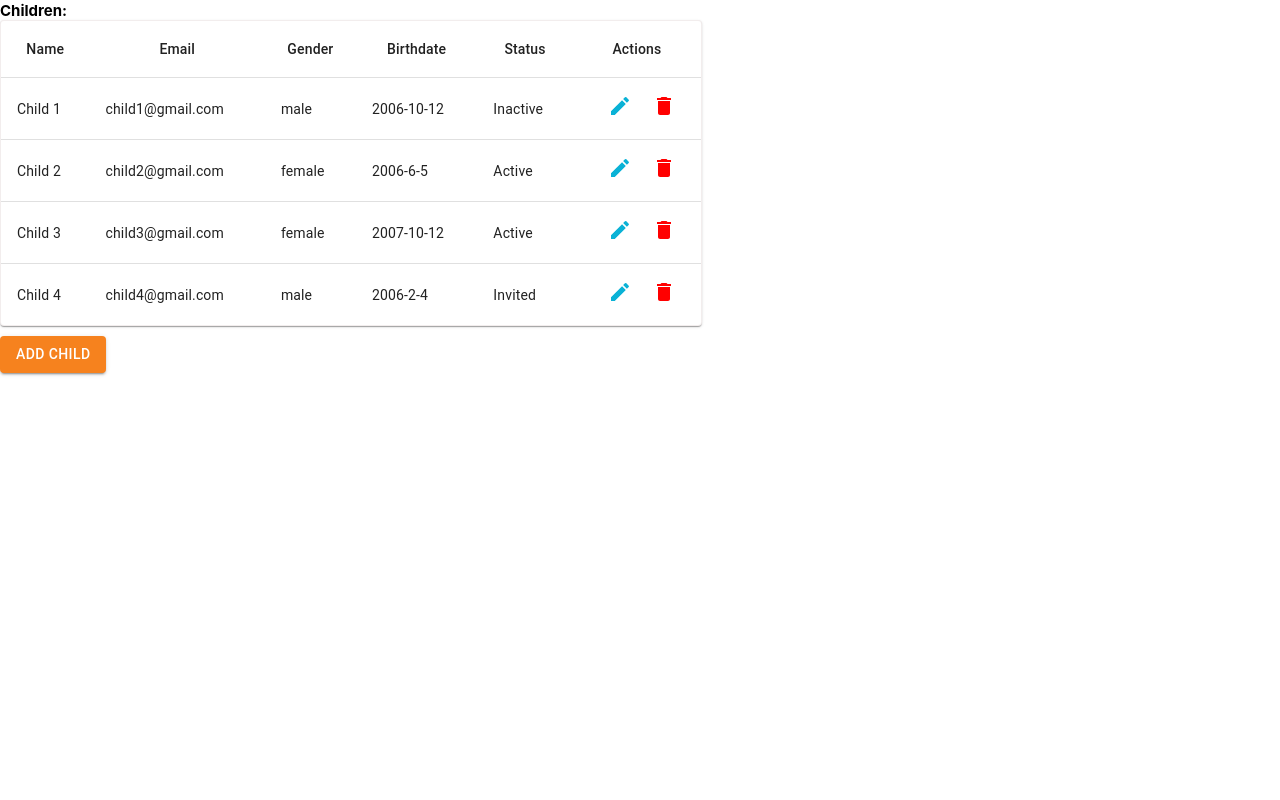
Render guardian profile › Add Child button is opening add child modal
What coordinates should you click on to do the following:
click the button with test id "add_child"
I would click on:
 (53, 354)
Its box is [0,336,106,373].
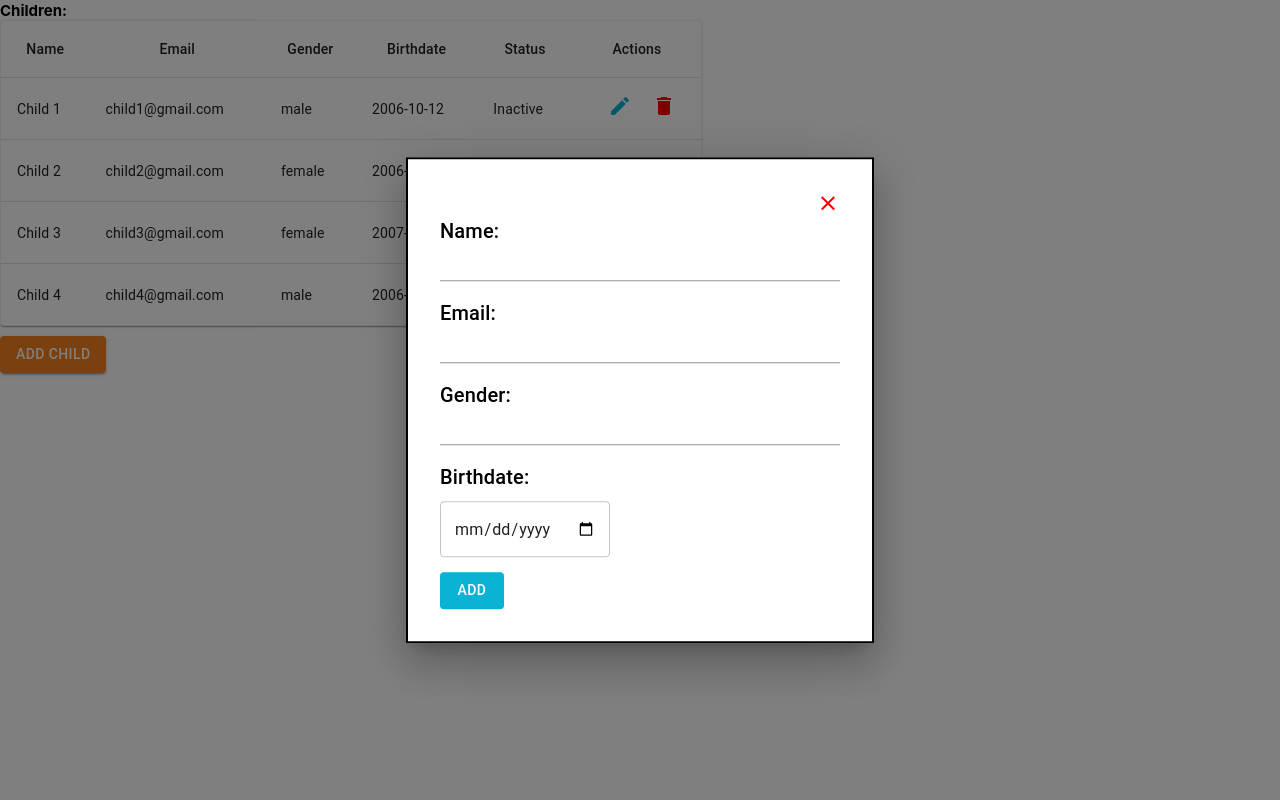
Expected: the icon with test id "close_icon2" is shown, [816,191,840,215]
